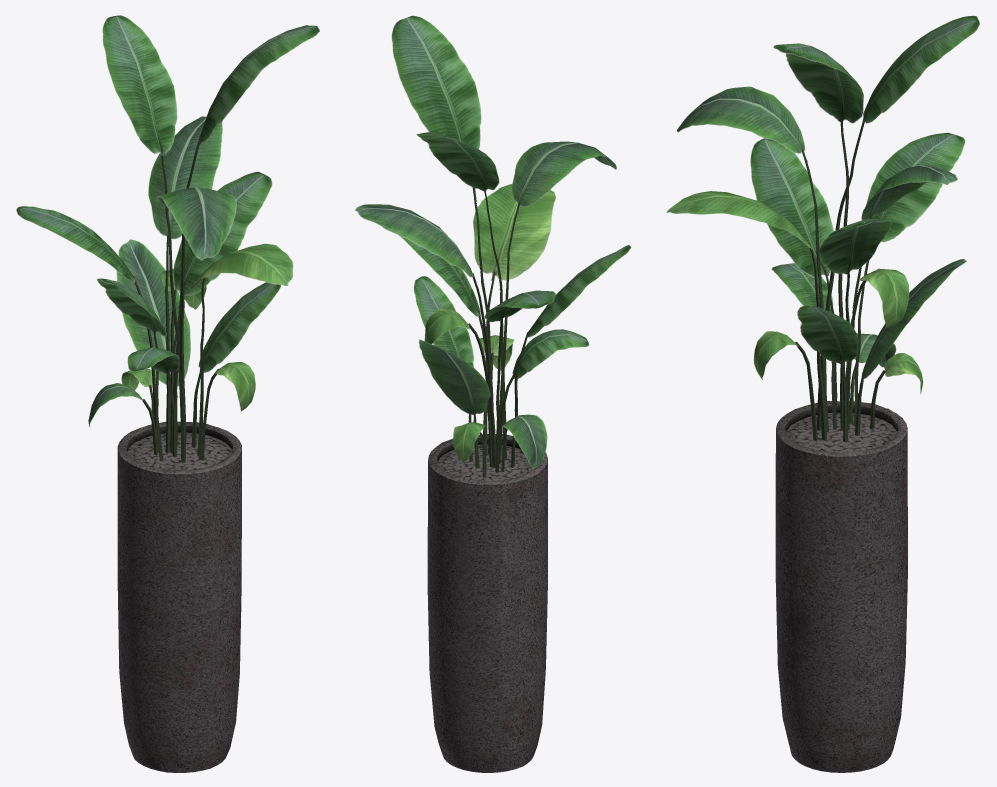
3 renders of one model, left to right at view 1: azimuth 30°, elevation 25°; view 2: azimuth 150°, elevation 25°; view 3: azimuth 270°, elevation 25°, orthographic. The views are drawn at different scales.
Visible parts, largest first — view 1: Ficus_plant; view 2: Ficus_plant; view 3: Ficus_plant.
Boxes of the visible parts, x1,y1,x2,y2 form: Ficus_plant: [16, 15, 320, 772]; Ficus_plant: [355, 15, 631, 772]; Ficus_plant: [666, 15, 979, 772].
Size of the model in its own units: 0.4806 by 1.38 by 0.5275.
Materials: 2 (2 with a texture image).
